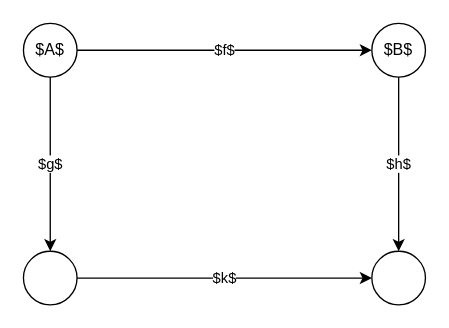
Some shapes in this 449 by 328 pixel diagram are drawn without their labels. The shapes that lost their labels are listed below. From the top down, each one's box as (x1, y1, x2, y2) in pixels, then its label:
(22, 250, 77, 305): $C$
(371, 250, 425, 305): $D$
